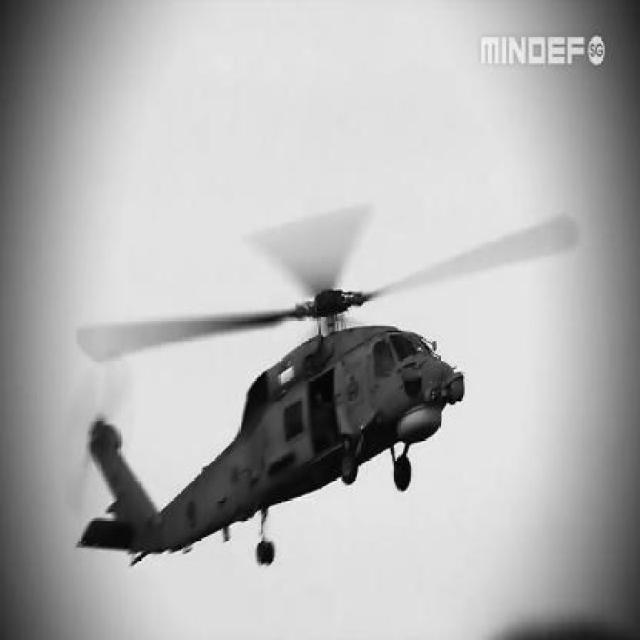Helicopter: (75, 200, 582, 571)
